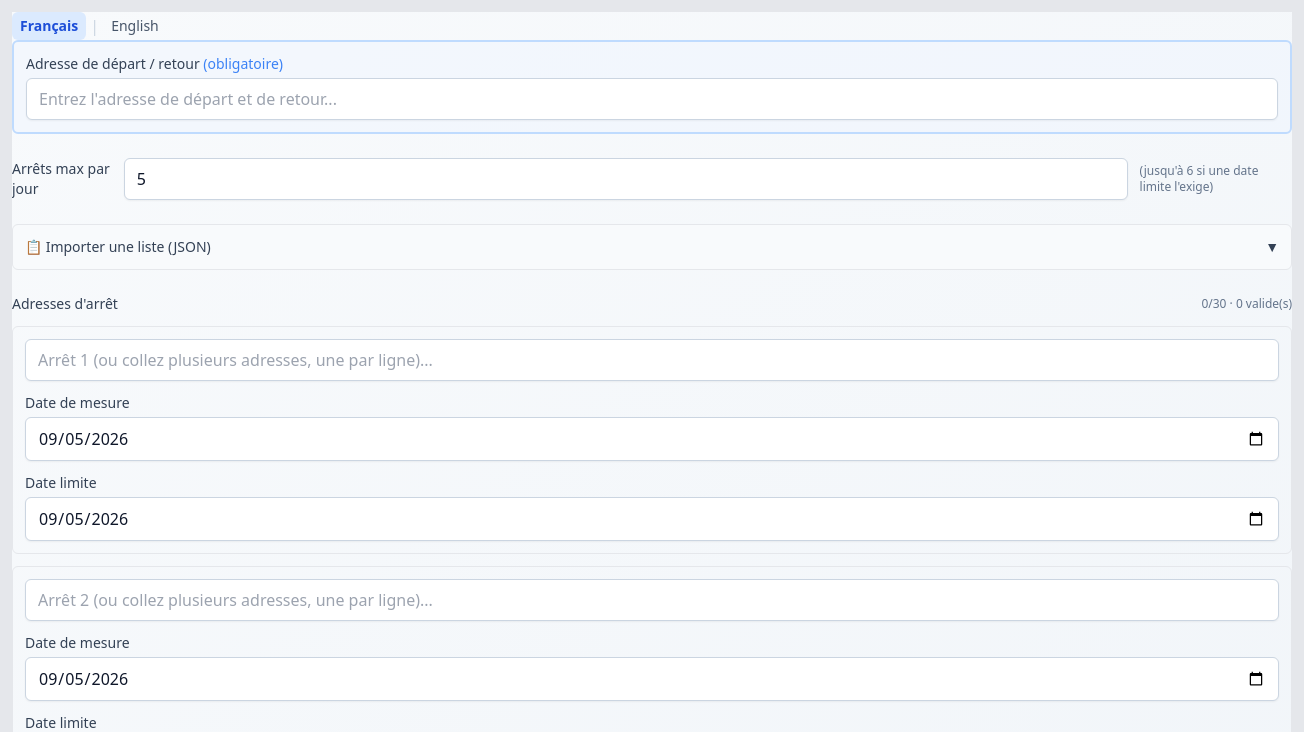
AddressForm › does not lose entered address values when switching language (US2, FR-004)
This screenshot has width=1304, height=732.
Step 1. Type "1 Start St, Portland OR" into the field with placeholder "Entrez l'adresse de départ et de retour..." → (652, 99), box [26,78,1278,120]
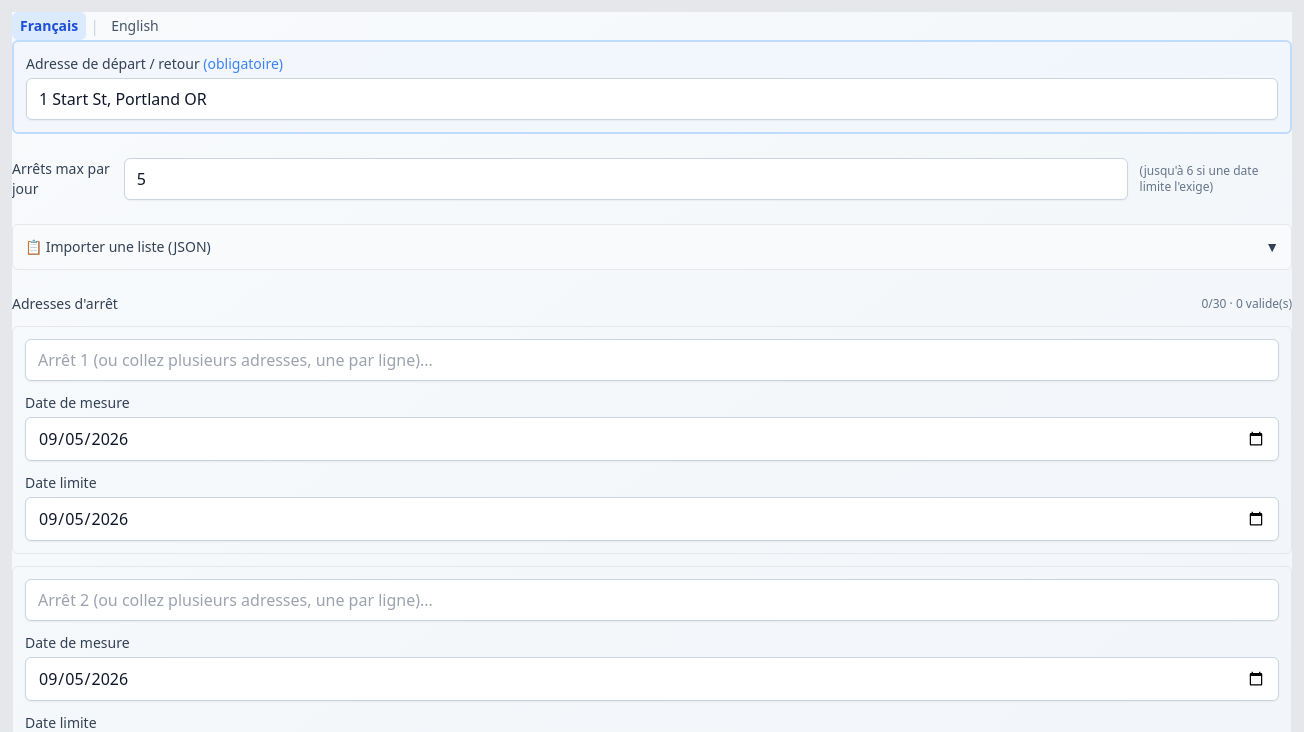
Step 2. Type "2 Stop St, Portland OR" into the field with placeholder "Arrêt 1 (ou collez plusieurs adresses, une par ligne)..." → (652, 360), box [25,339,1279,381]
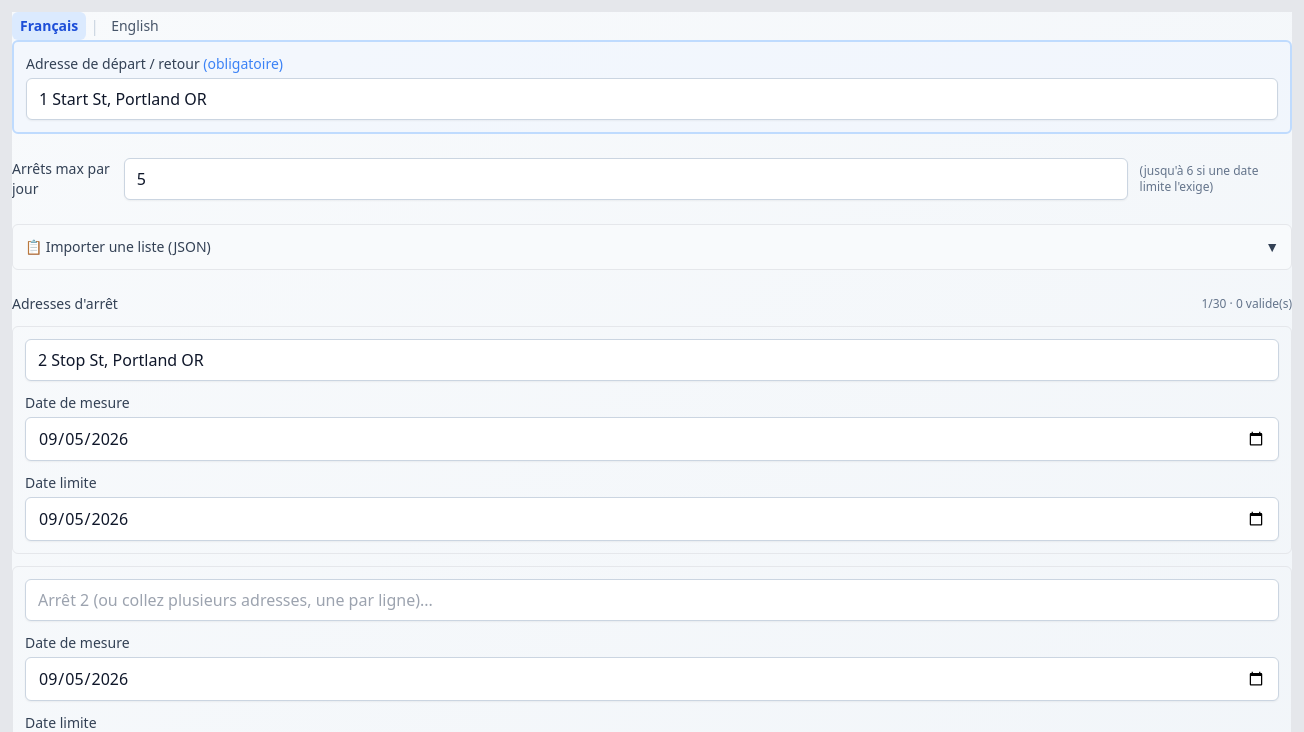
Step 3. Type "3 Stop St, Portland OR" into the field with placeholder "Arrêt 2 (ou collez plusieurs adresses, une par ligne)..." → (652, 600), box [25,579,1279,621]
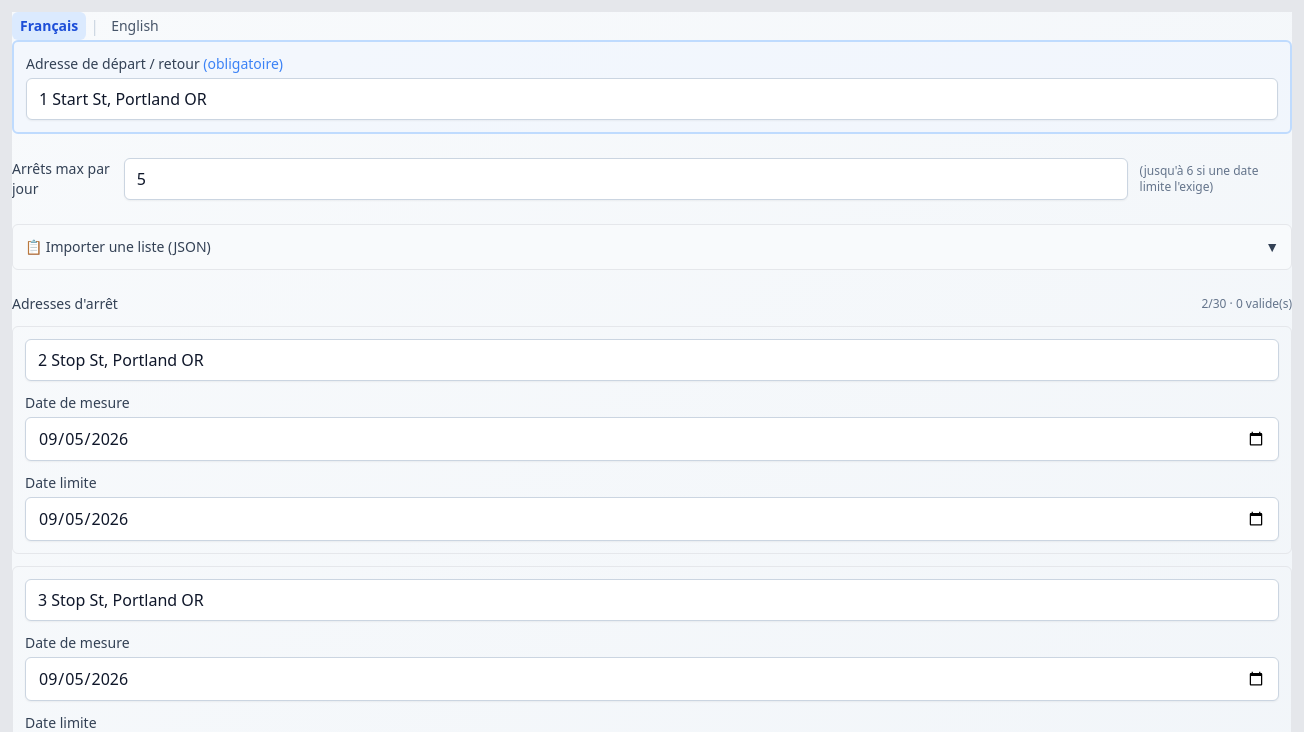
Step 4. Click the button "English" → (135, 26), box [103,12,167,40]
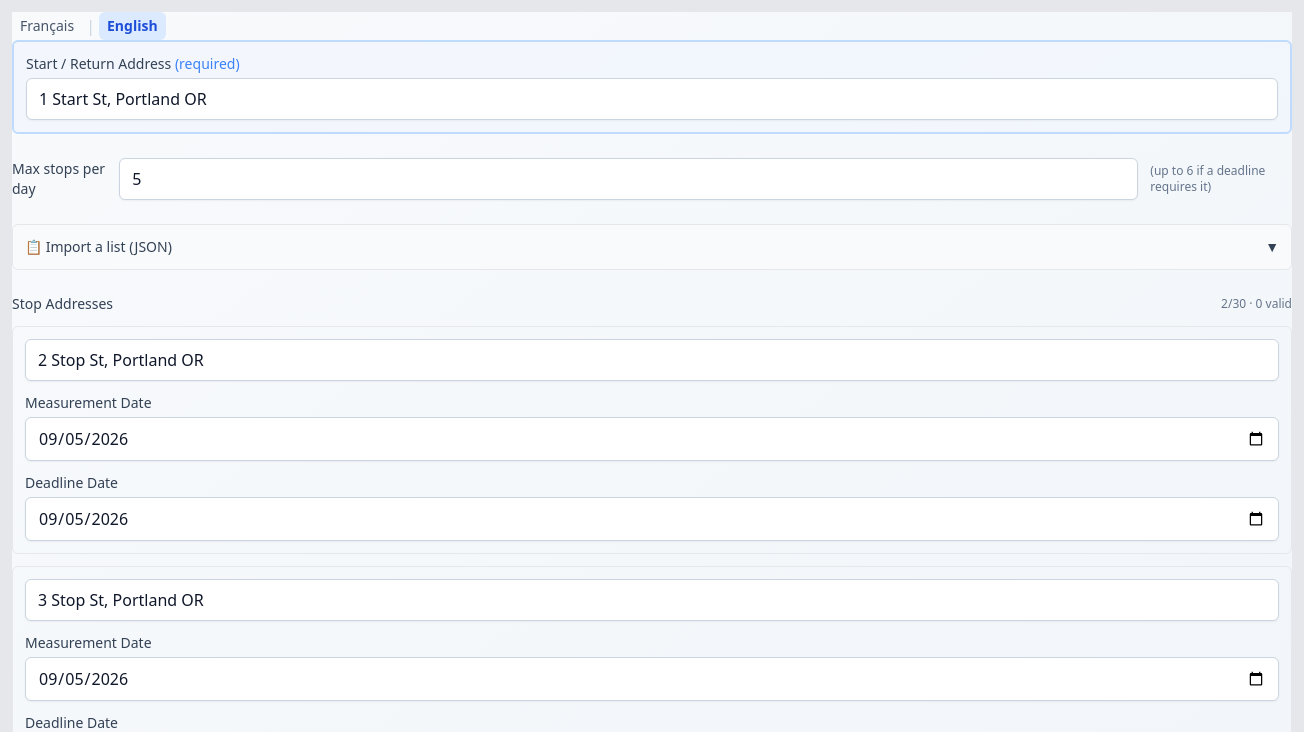
Now the text "Start / Return Address (required)" is shown, box [26,54,240,73]
